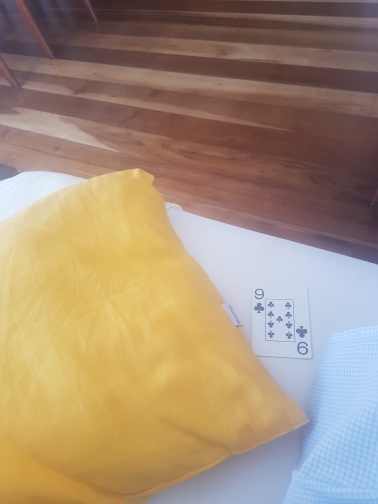nine: (250, 284, 310, 357)
